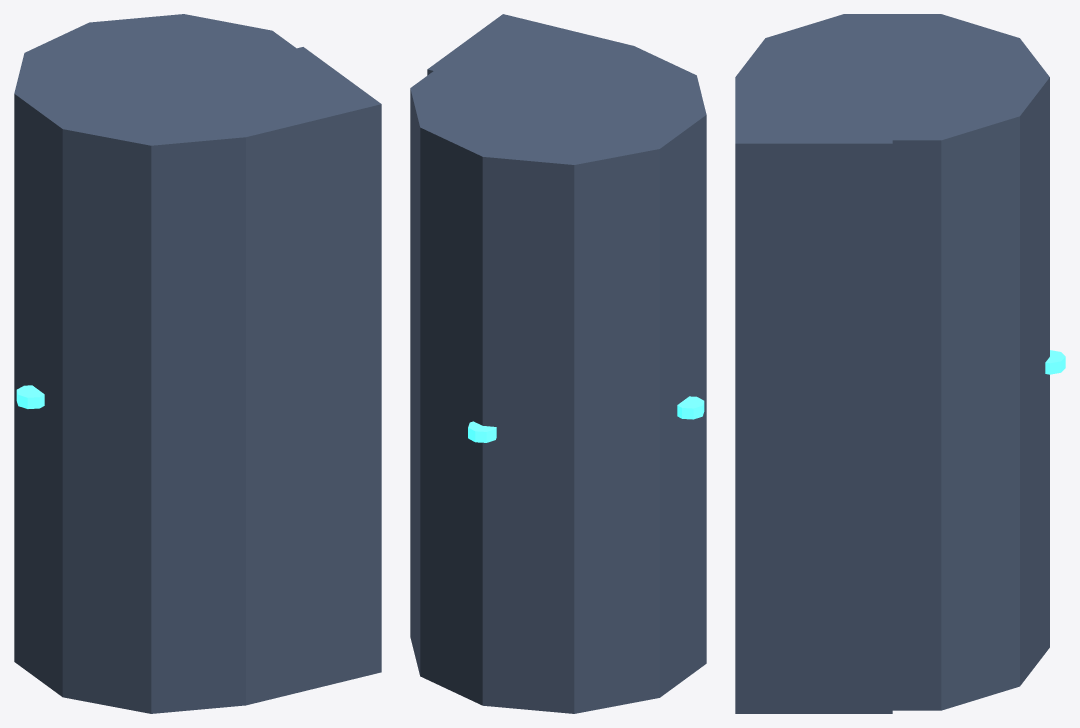
The model's file is mod_esquina.fbx.
The picture shows the model from 3 angles, left to right: view 1: azimuth 30°, elevation 25°; view 2: azimuth 150°, elevation 25°; view 3: azimuth 270°, elevation 25°; orthographic projection. The views are drawn at different scales.
Parts seen in each view (by area): view 1: Esquina, Esquina_Conectores; view 2: Esquina, Esquina_Conectores; view 3: Esquina.
Boxes of the visible parts, x1,y1,x2,y2 form: Esquina: [14, 14, 381, 713]; Esquina_Conectores: [16, 385, 44, 408]; Esquina: [410, 14, 706, 713]; Esquina_Conectores: [468, 396, 704, 442]; Esquina: [735, 14, 1049, 713].
Bounding box in the file's own units: 0.588 × 1.12 × 0.588.
